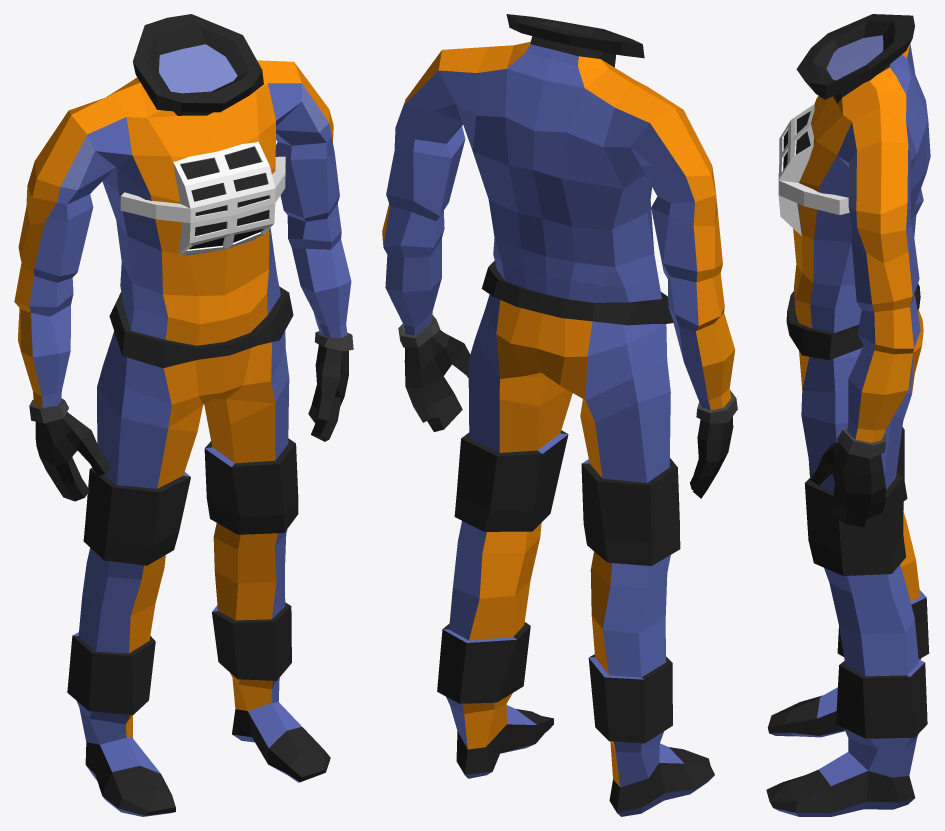
The model's file is Space suit .fbx.
3 renders of one model, left to right at view 1: azimuth 30°, elevation 25°; view 2: azimuth 150°, elevation 25°; view 3: azimuth 270°, elevation 25°, orthographic. The views are drawn at different scales.
Visible parts, largest first — view 1: casual_Male_G.007; view 2: casual_Male_G.007; view 3: casual_Male_G.007.
Part boxes in pixels (<box>): casual_Male_G.007: <box>14,14,353,816</box>; casual_Male_G.007: <box>382,14,737,816</box>; casual_Male_G.007: <box>766,14,930,816</box>.
Bounding box in the file's own units: 0.5873 × 1.27 × 0.255.
